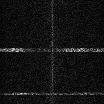wifi: (1, 47, 104, 52)
